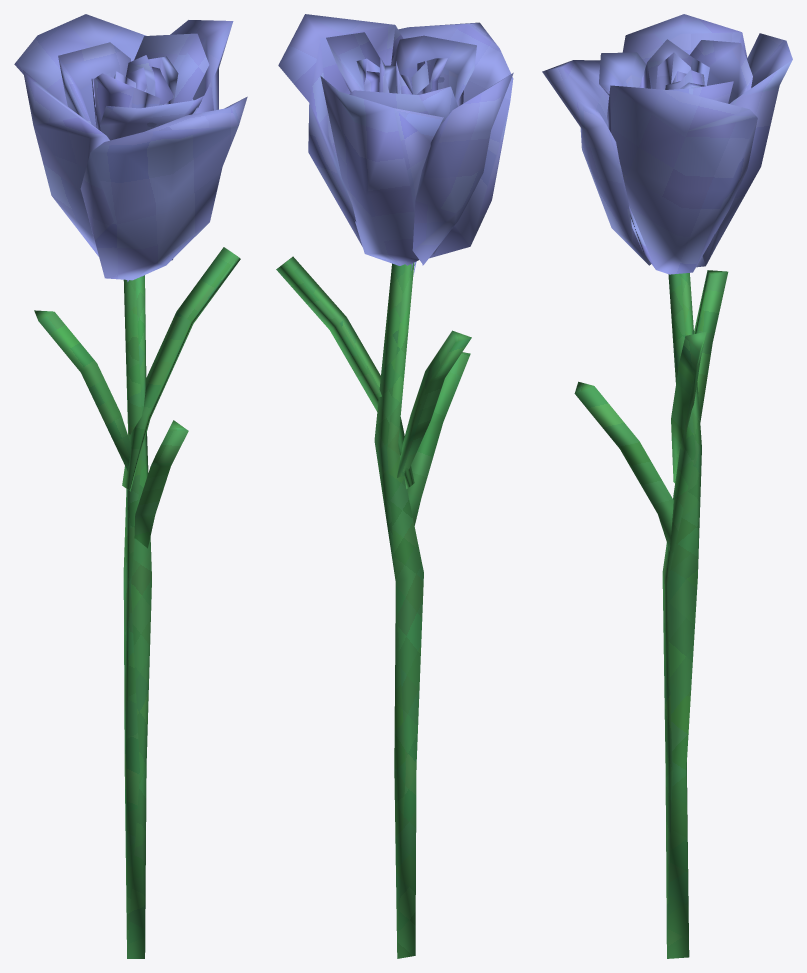
The model's file is blue_tulip.fbx.
3 views of the same model, side by side, from view 1: azimuth 30°, elevation 25°; view 2: azimuth 150°, elevation 25°; view 3: azimuth 270°, elevation 25° (orthographic).
Parts seen in each view (by area): view 1: blue_tulip; view 2: blue_tulip; view 3: blue_tulip.
Boxes of the visible parts, x1,y1,x2,y2 form: blue_tulip: [14, 14, 247, 958]; blue_tulip: [276, 14, 513, 958]; blue_tulip: [542, 14, 792, 958].
Size of the model in its own units: 15.26 by 62.28 by 15.5.
